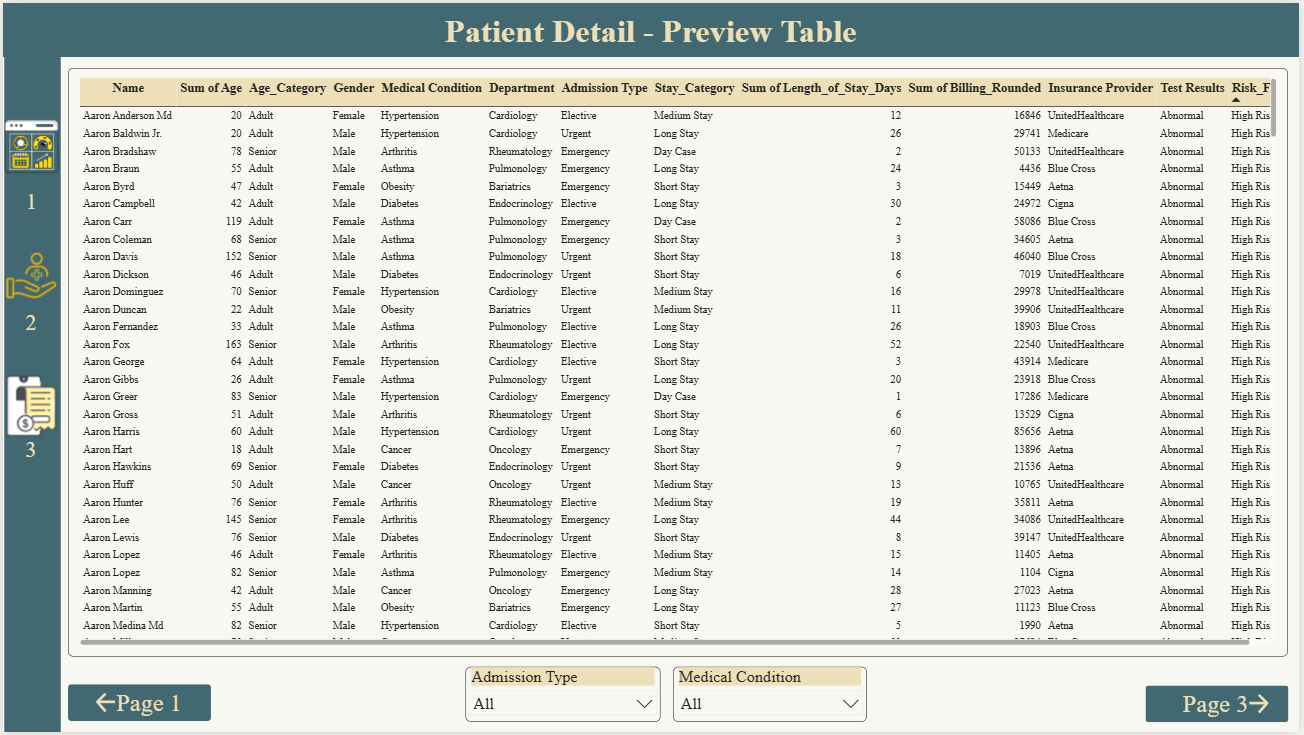

The dashboard page shown, as its layout file describes it:
{"tool":"powerbi","page":{"name":"Patient Detail","canvas":[1920,1080],"ordinal":1},"visuals":[{"type":"shape","box":[1.4,0,83.7,1080.4],"z":0,"group":"g1"},{"type":"tableEx","title":"Patient Detail","fields":{"Values":["healthcare_dataset.Name","Sum(healthcare_dataset.Age)","healthcare_dataset.Age_Category","healthcare_dataset.Gender","healthcare_dataset.Medical Condition","healthcare_dataset.Department","healthcare_dataset.Admission Type","healthcare_dataset.Stay_Category","Sum(healthcare_dataset.Length_of_Stay_Days)","Sum(healthcare_dataset.Billing_Rounded)","healthcare_dataset.Insurance Provider","healthcare_dataset.Test Results"]},"box":[96.3,96.3,1807.4,872.2],"z":0},{"type":"shape","box":[0,0,1920,80],"z":1000},{"type":"actionButton","box":[0,150.2,85.1,215.3],"z":1000,"group":"g1"},{"type":"actionButton","box":[0.8,352.9,83.7,215.3],"z":2000,"group":"g1"},{"type":"slicer","fields":{"Values":["Admissions_Full.Medical Condition"]},"box":[992.6,983.3,287,81.5],"z":2000},{"type":"actionButton","box":[0.8,551.9,83.7,215.3],"z":3000,"group":"g1"},{"type":"slicer","fields":{"Values":["Admissions_Full.Admission Type"]},"box":[685.2,983.3,288.9,81.5],"z":3000},{"type":"textbox","box":[14,14,1890,66],"z":4000},{"type":"group","id":"g1","title":"Group 1","box":[0,0,85.1,1080.4],"z":5000},{"type":"actionButton","box":[1692,1011.6,211.7,54.3],"z":6000},{"type":"actionButton","box":[95.9,1009.8,211.7,54.3],"z":7000}]}

Visuals, with their boxes on the page's 1920x1080 design canvas (x1, y1, x2, y2). These are canvas units, not pixel positions in the 1304x735 screenshot, which may show the page scaled, cropped or inside an application window:
shape: BBox(1, 0, 85, 1080)
"Patient Detail" tableEx: BBox(96, 96, 1904, 968)
shape: BBox(0, 0, 1920, 80)
actionButton: BBox(0, 150, 85, 366)
actionButton: BBox(1, 353, 84, 568)
slicer - Admissions_Full.Medical Condition: BBox(993, 983, 1280, 1065)
actionButton: BBox(1, 552, 84, 767)
slicer - Admissions_Full.Admission Type: BBox(685, 983, 974, 1065)
textbox: BBox(14, 14, 1904, 80)
"Group 1" group: BBox(0, 0, 85, 1080)
actionButton: BBox(1692, 1012, 1904, 1066)
actionButton: BBox(96, 1010, 308, 1064)
